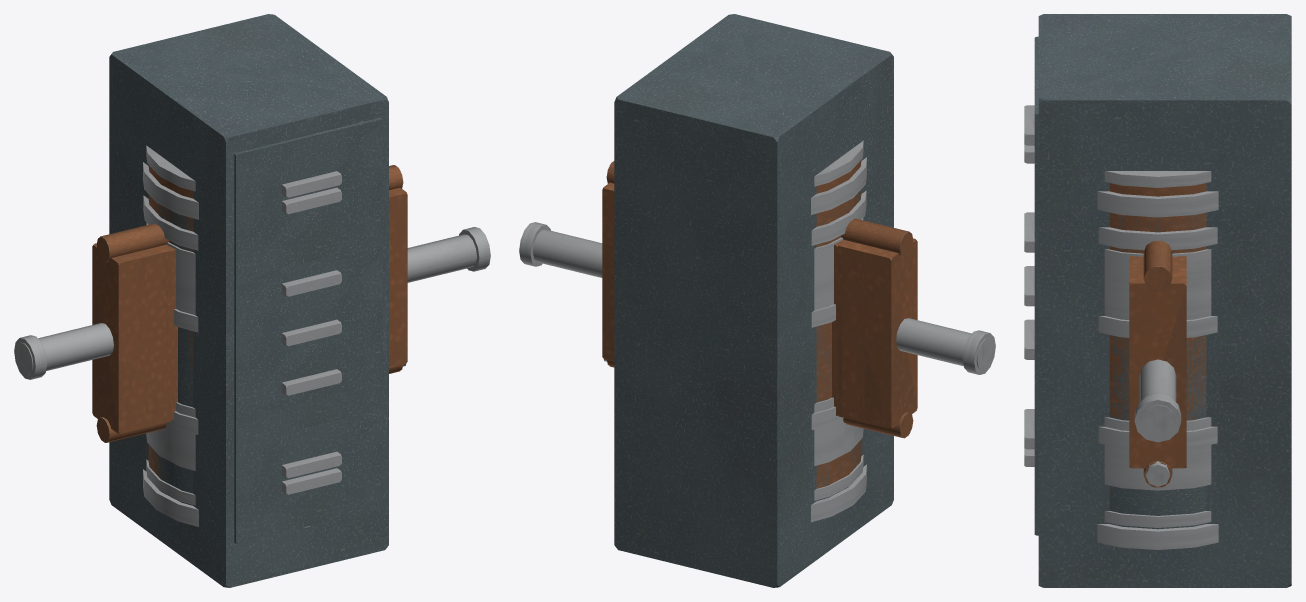
Rendered from propsMetal.glb.
The picture shows the model from 3 angles, left to right: view 1: azimuth 30°, elevation 25°; view 2: azimuth 150°, elevation 25°; view 3: azimuth 270°, elevation 25°; orthographic projection. The views are drawn at different scales.
Visible parts, largest first — view 1: filingCabinet_lod0_v0, chunk_3 (×4), chunk_4 (×3), filingCabinet_lod0_v1, radiator_lod1_v0, metalPipe_lod0_v0, filingCabinet_lod1_v0, radiator_lod0_v0, explosiveBarrel_lod0_v0, chunk_2 (×2), metalBarrel_lod0_v0, chunk_5; view 2: filingCabinet_lod1_v0, filingCabinet_lod0_v0, radiator_lod1_v0, chunk_3 (×3), metalPipe_lod0_v0, chunk_4 (×2), radiator_lod0_v0, explosiveBarrel_lod0_v0, metalBarrel_lod0_v0, chunk_5; view 3: filingCabinet_lod0_v0, filingCabinet_lod1_v0, chunk_3 (×4), radiator_lod1_v0, chunk_4 (×3), chunk_5 (×2), metalPipe_lod0_v0, explosiveBarrel_lod0_v0, chunk_2 (×2), metalBarrel_lod0_v0, filingCabinet_lod0_v1, explosiveBarrel_lod0_v1 (+4 smaller).
Boxes of the visible parts, x1=… form: filingCabinet_lod0_v0: x1=109, y1=14, x2=388, y2=587; chunk_3 (×4): x1=92, y1=165, x2=401, y2=505; chunk_4 (×3): x1=145, y1=117, x2=382, y2=426; filingCabinet_lod0_v1: x1=234, y1=171, x2=382, y2=542; radiator_lod1_v0: x1=92, y1=165, x2=407, y2=442; metalPipe_lod0_v0: x1=14, y1=227, x2=490, y2=379; filingCabinet_lod1_v0: x1=109, y1=14, x2=386, y2=554; radiator_lod0_v0: x1=96, y1=174, x2=407, y2=442; explosiveBarrel_lod0_v0: x1=143, y1=162, x2=198, y2=524; chunk_2 (×2): x1=143, y1=454, x2=341, y2=527; metalBarrel_lod0_v0: x1=143, y1=153, x2=197, y2=500; chunk_5: x1=143, y1=195, x2=198, y2=250; filingCabinet_lod1_v0: x1=614, y1=14, x2=893, y2=587; filingCabinet_lod0_v0: x1=614, y1=14, x2=893, y2=587; radiator_lod1_v0: x1=602, y1=164, x2=917, y2=437; chunk_3 (×3): x1=608, y1=160, x2=917, y2=500; metalPipe_lod0_v0: x1=519, y1=222, x2=995, y2=374; chunk_4 (×2): x1=814, y1=218, x2=864, y2=422; radiator_lod0_v0: x1=602, y1=169, x2=913, y2=437; explosiveBarrel_lod0_v0: x1=811, y1=157, x2=866, y2=519; metalBarrel_lod0_v0: x1=812, y1=148, x2=866, y2=495; chunk_5: x1=811, y1=191, x2=866, y2=245; filingCabinet_lod0_v0: x1=1024, y1=14, x2=1291, y2=587; filingCabinet_lod1_v0: x1=1034, y1=14, x2=1291, y2=587; chunk_3 (×4): x1=1024, y1=183, x2=1211, y2=529; radiator_lod1_v0: x1=1129, y1=242, x2=1186, y2=486; chunk_4 (×3): x1=1024, y1=36, x2=1217, y2=337; chunk_5 (×2): x1=1097, y1=191, x2=1218, y2=250; metalPipe_lod0_v0: x1=1134, y1=359, x2=1181, y2=442; explosiveBarrel_lod0_v0: x1=1098, y1=191, x2=1218, y2=548; chunk_2 (×2): x1=1097, y1=427, x2=1218, y2=549; metalBarrel_lod0_v0: x1=1099, y1=174, x2=1216, y2=527; filingCabinet_lod0_v1: x1=1024, y1=105, x2=1038, y2=534; explosiveBarrel_lod0_v1: x1=1104, y1=263, x2=1211, y2=429.
Size of what is drawn, in the model's own units: 1.4 by 1.32 by 0.655.
1 material, 1 textured.
